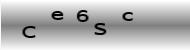6: (75, 9, 89, 22)
C: (21, 25, 37, 39)
S: (93, 22, 107, 36)
c: (121, 10, 135, 22)
e: (50, 10, 64, 21)
